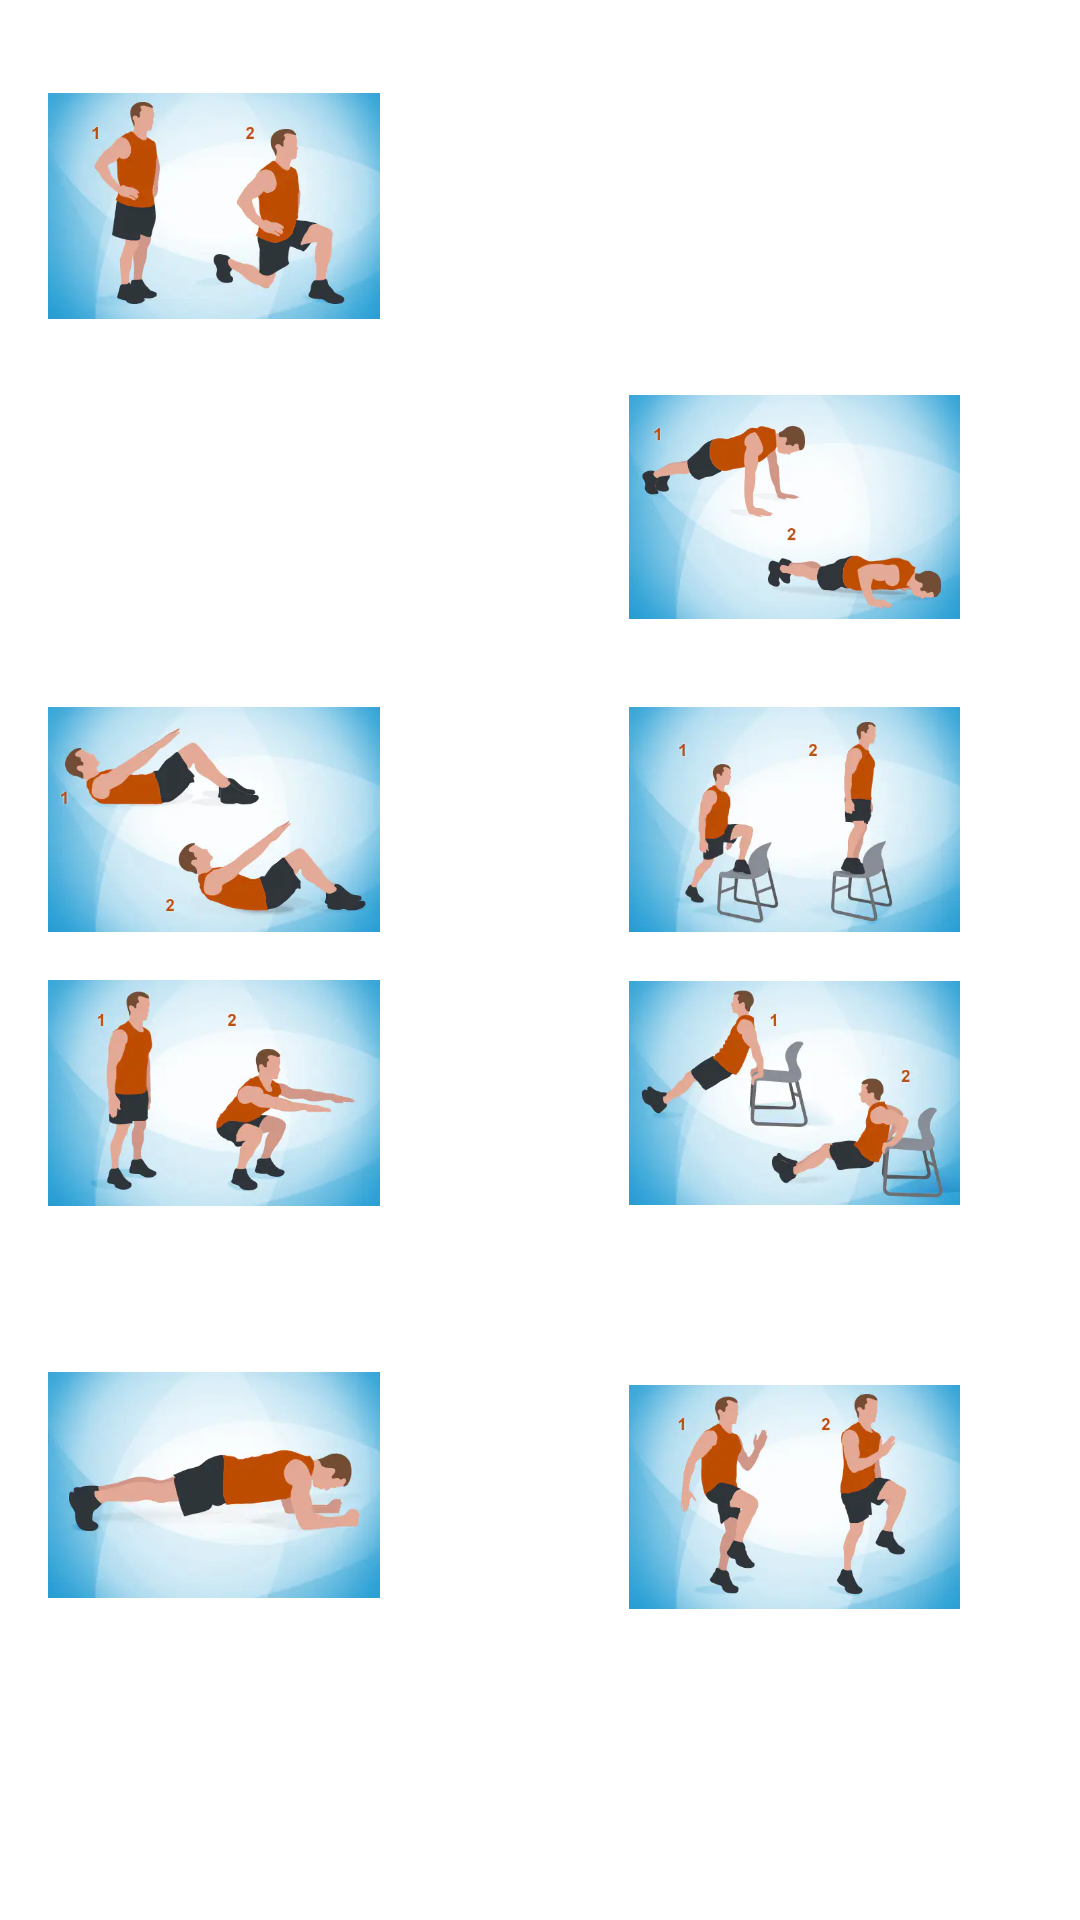

Where icons sit on this 1080 × 1920 app screen, as box=[x1, y1, x2, y2]:
chair: box=[629, 707, 960, 932]
crunch: box=[48, 707, 380, 932]
dips: box=[629, 981, 960, 1205]
high knees: box=[629, 1385, 960, 1609]
Lunges: box=[48, 93, 380, 319]
plank: box=[48, 1372, 380, 1598]
pushup: box=[629, 395, 960, 619]
squat: box=[48, 980, 380, 1206]
